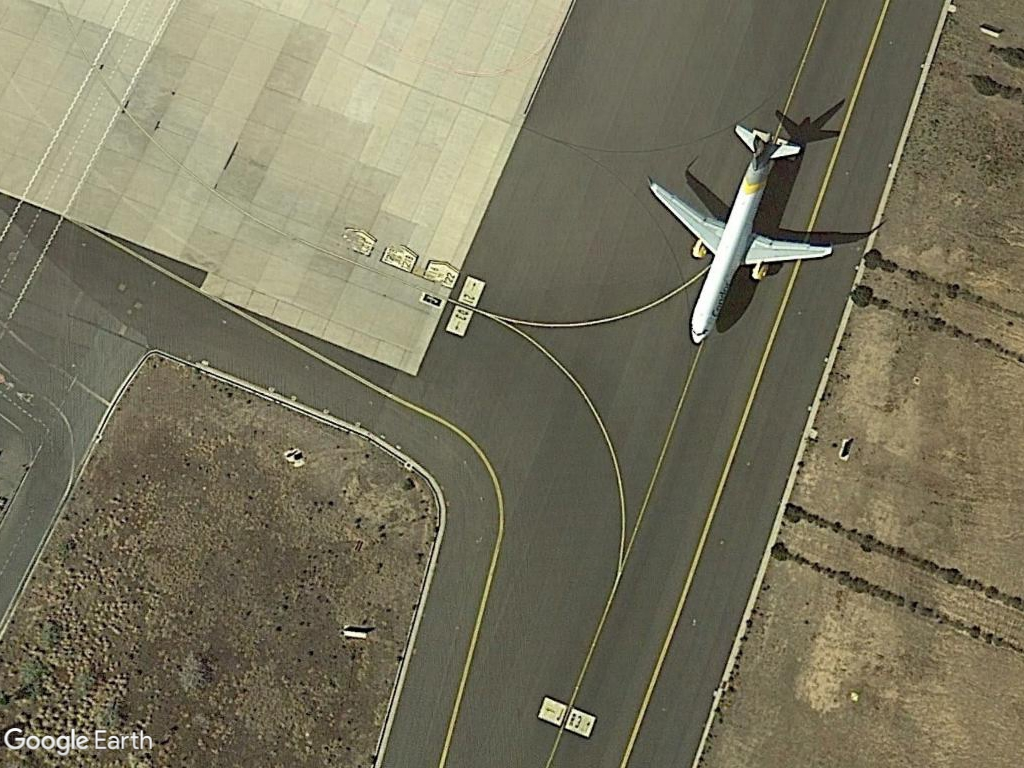airliner: (646, 120, 835, 350)
